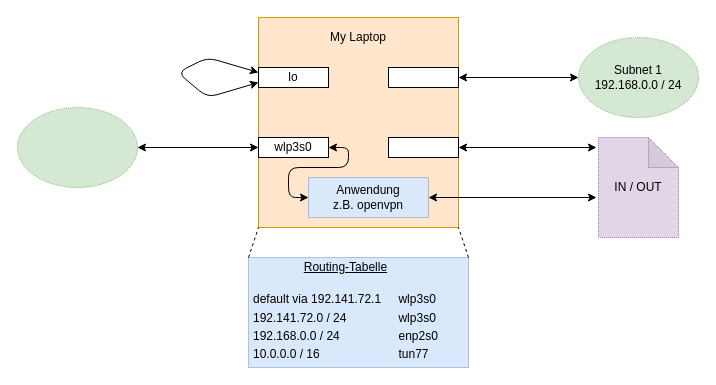
Image size: 716x385. Some labels were removed from this diagram. The centre of each missing label's shape, as x and y in pixels:
"enp2s0" goes at point (423, 77).
"Subnet 2 192.141.72.0 / 24" goes at point (77, 147).
"tun77" goes at point (423, 147).
